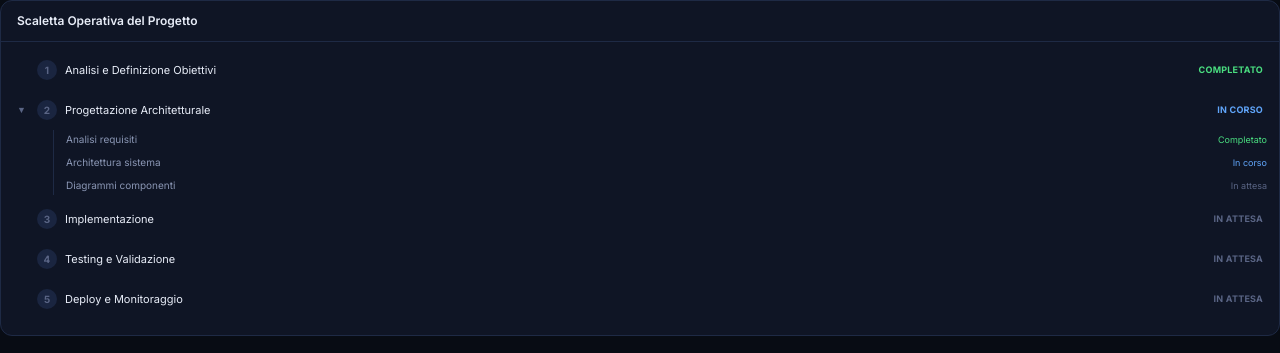
Test: ProjectRoadmap › click su fase con subtask espande/collassa
The image size is (1280, 353).
Click the text "Progettazione Architetturale" at (138, 110), box [65, 103, 210, 117]
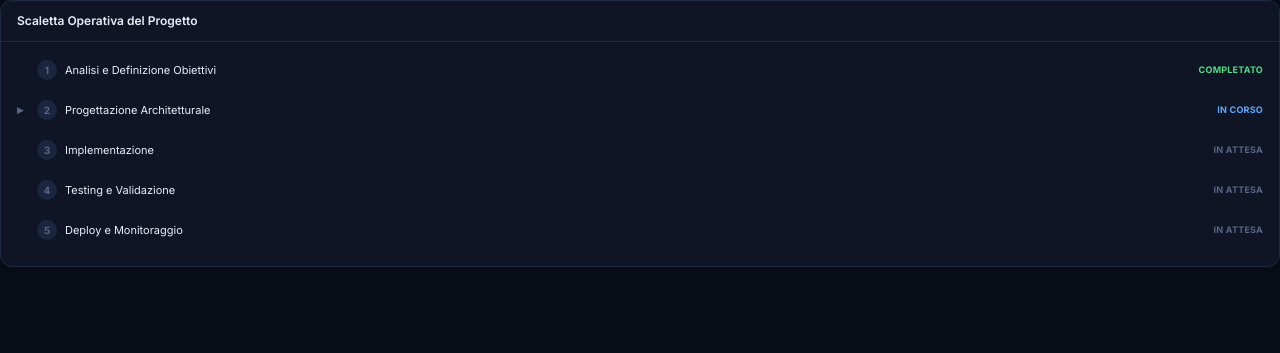
Check: the text "Analisi requisiti" is gone
